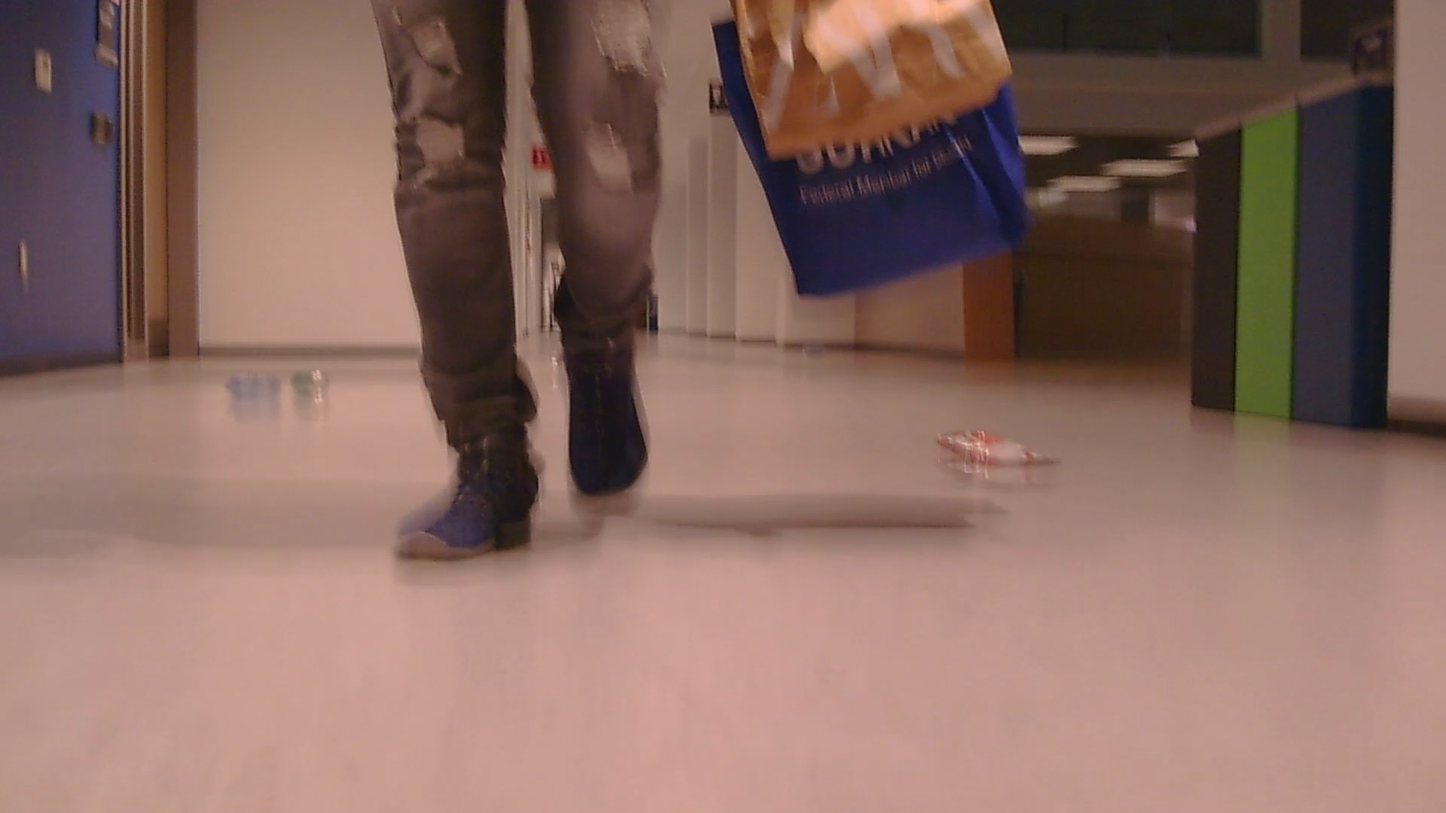carton: (920, 408, 1063, 492), (224, 372, 286, 410), (297, 373, 340, 399)
